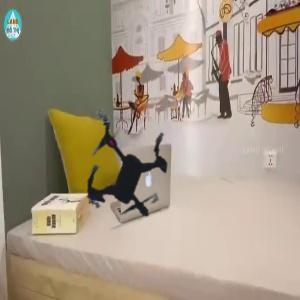drone: (31, 75, 234, 278)
